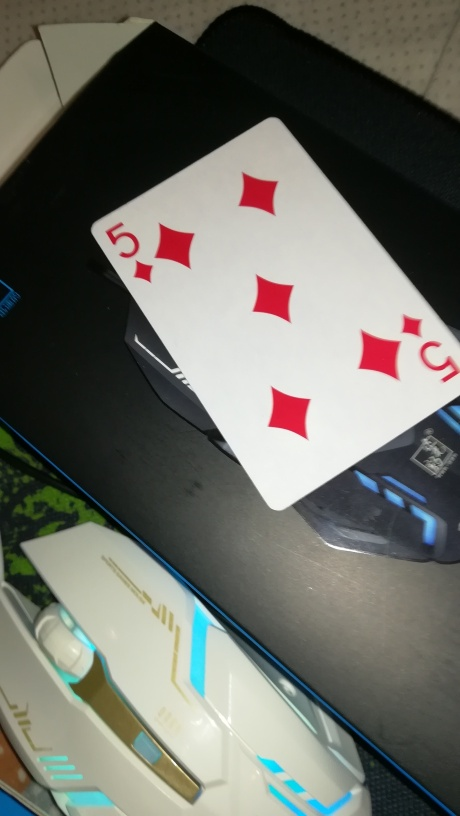fk 5: (85, 116, 460, 512)
